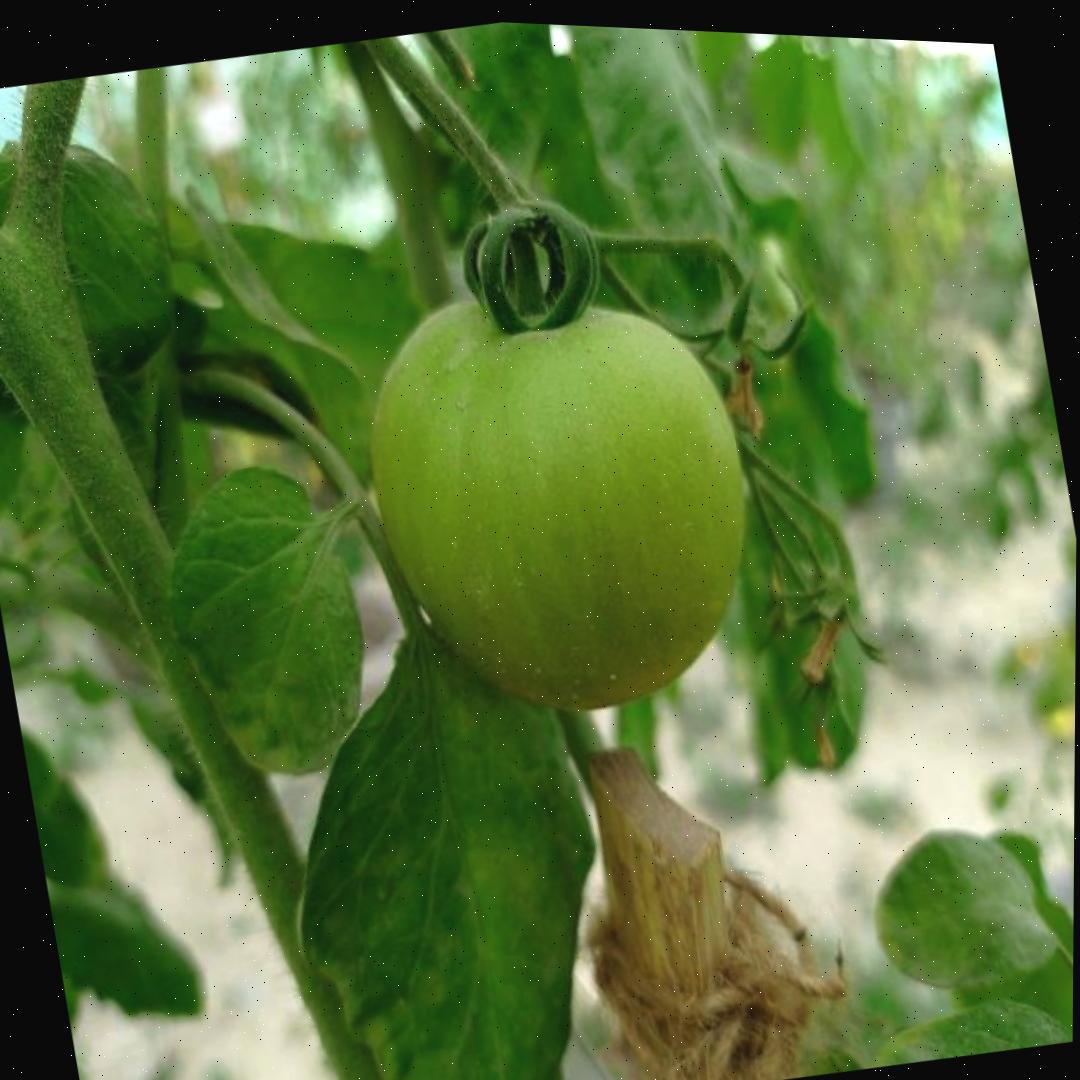mentah: (338, 250, 778, 751)
